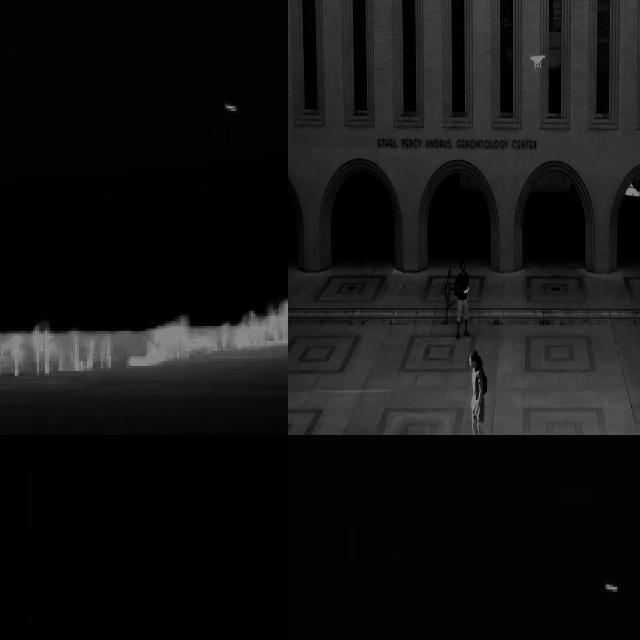1: (214, 97, 248, 127), (596, 577, 628, 607)
drone: (528, 51, 549, 73)
